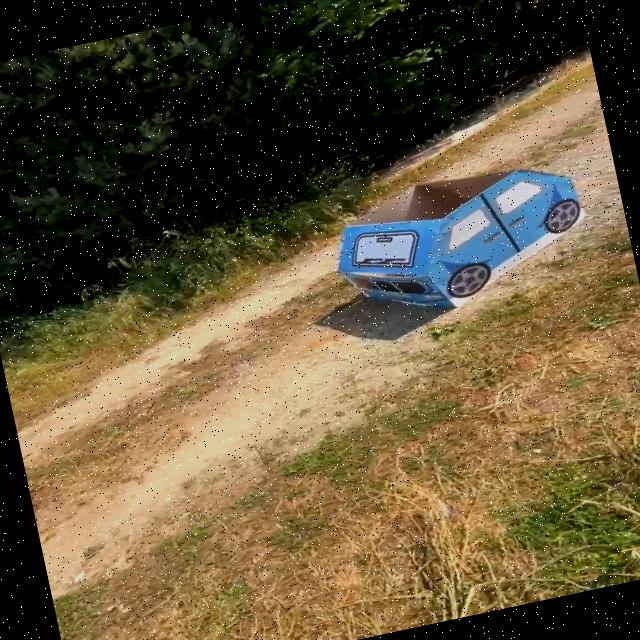blue_car: (302, 107, 615, 343)
